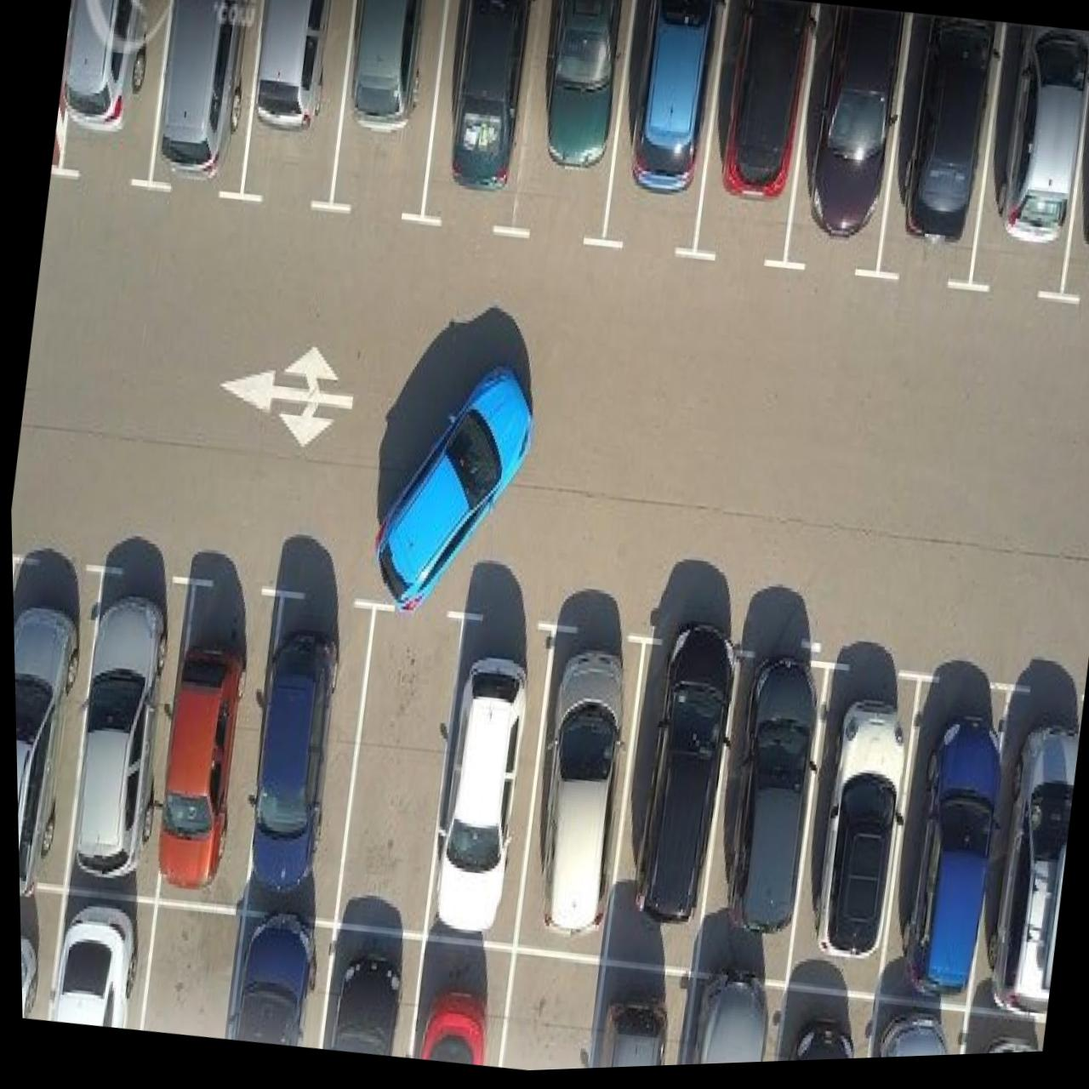cars: (413, 607, 558, 952), (869, 671, 1016, 1009), (231, 587, 379, 915), (600, 651, 745, 981), (54, 582, 200, 903), (143, 576, 285, 905), (509, 639, 650, 969), (696, 656, 829, 993), (966, 684, 1089, 1026), (780, 686, 912, 1002), (862, 14, 1005, 302), (774, 0, 918, 279), (684, 0, 821, 271), (590, 0, 728, 256), (498, 0, 639, 246), (967, 18, 1089, 294), (12, 555, 112, 880), (415, 0, 548, 227), (326, 0, 462, 218), (237, 0, 369, 215), (140, 0, 278, 192), (47, 0, 185, 185), (40, 896, 163, 1035), (318, 919, 425, 1061), (226, 916, 334, 1052), (411, 941, 512, 1069), (677, 965, 786, 1065), (593, 969, 695, 1068), (767, 983, 878, 1061), (862, 993, 968, 1058), (20, 881, 54, 1019), (952, 1006, 1047, 1055)
empty: (327, 598, 468, 933), (144, 901, 239, 1041), (496, 955, 604, 1071)
